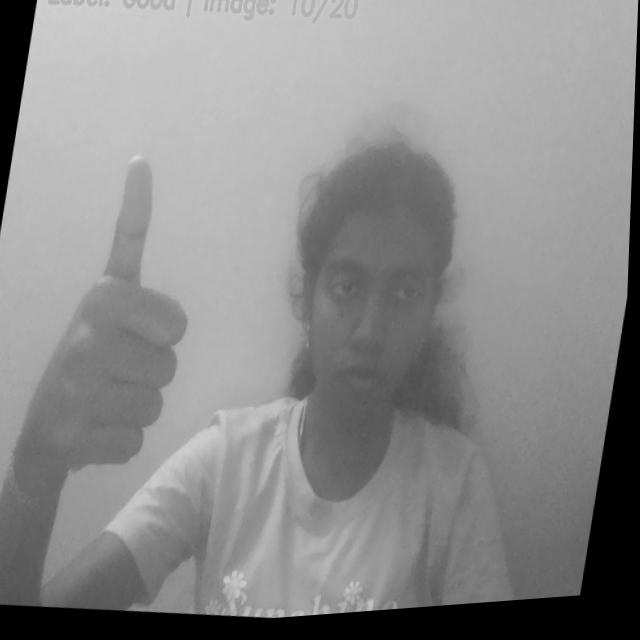Good: (13, 132, 222, 492)
